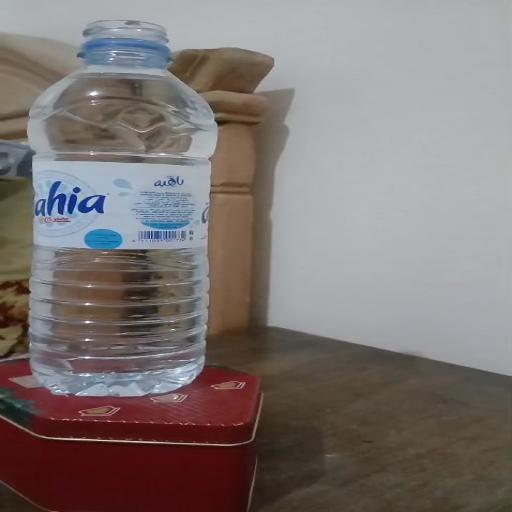bouteille non conformite: (48, 4, 188, 109)
